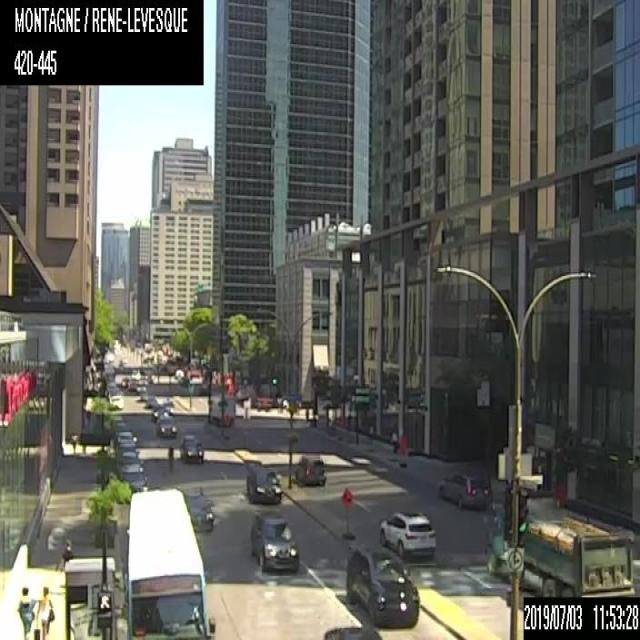bus: (125, 483, 216, 639)
construction: (341, 486, 354, 534), (398, 434, 407, 466)
pedestrian: (36, 582, 54, 638), (16, 583, 34, 639), (59, 538, 73, 585), (69, 427, 80, 460)
vehicle: (485, 495, 634, 596), (344, 545, 420, 628), (248, 510, 298, 574), (378, 508, 436, 553), (437, 467, 491, 505), (243, 464, 282, 505), (184, 492, 214, 532), (294, 451, 328, 485), (206, 393, 235, 429), (118, 462, 147, 492), (322, 624, 382, 638), (178, 433, 202, 464), (118, 452, 142, 472), (155, 415, 175, 438), (114, 431, 139, 447), (179, 485, 202, 501), (152, 402, 168, 421), (116, 442, 139, 455), (108, 394, 124, 410), (145, 392, 158, 407), (137, 390, 148, 402), (136, 378, 146, 391)
